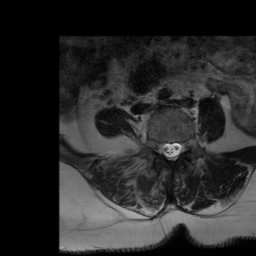CCS_normal: (168, 137, 174, 165)
LFS_normal: (181, 135, 187, 157)
LLS_normal: (174, 138, 181, 161)
RFS_normal: (155, 134, 161, 161)
RLS_normal: (161, 137, 168, 162)
